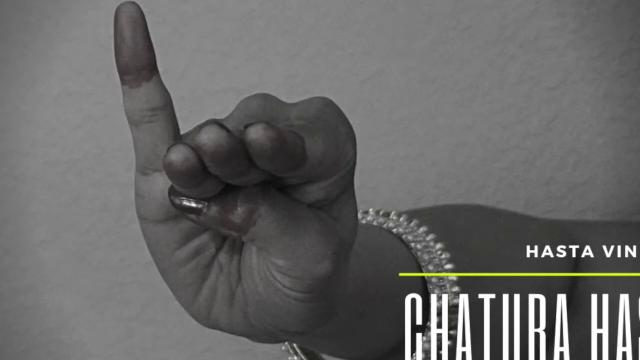chatur: (97, 2, 376, 352)
